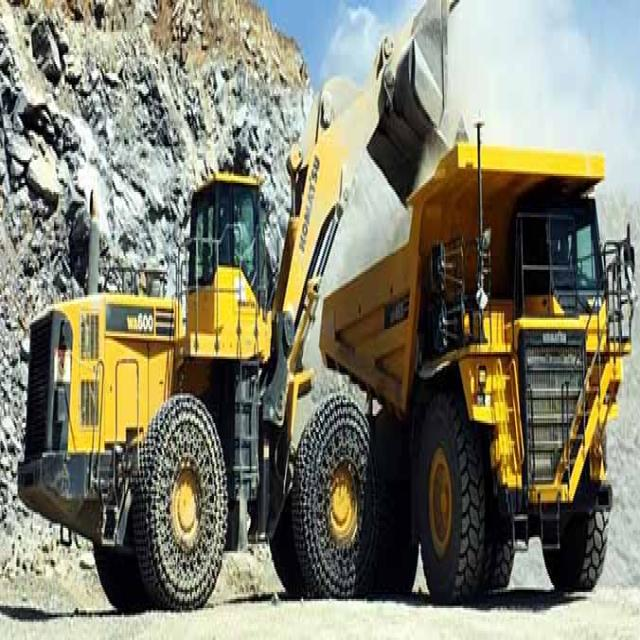buldozerpayloadergrader: (25, 2, 460, 617)
dump_truck: (328, 140, 635, 601)
